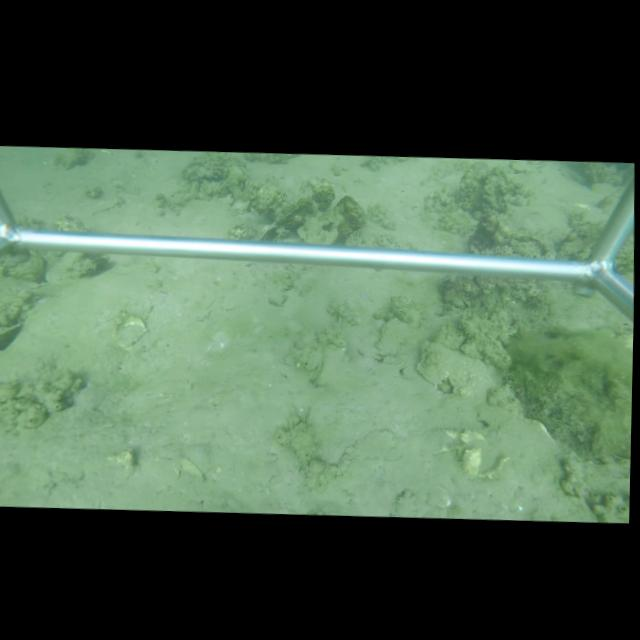Oyster-Closed: (257, 198, 321, 239), (306, 359, 323, 386)
Oyster-Indeterminate: (415, 340, 499, 399), (370, 318, 413, 358)
